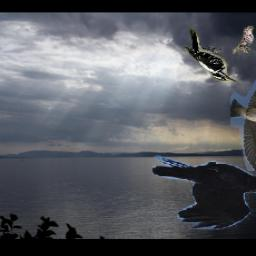Crow: (152, 155, 256, 229)
Sparrow: (233, 27, 255, 61)
Swallow: (230, 77, 256, 171)
Woodpecker: (185, 27, 238, 83)
